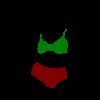mutande: (31, 61, 67, 88)
reggiseno: (37, 29, 68, 54)
